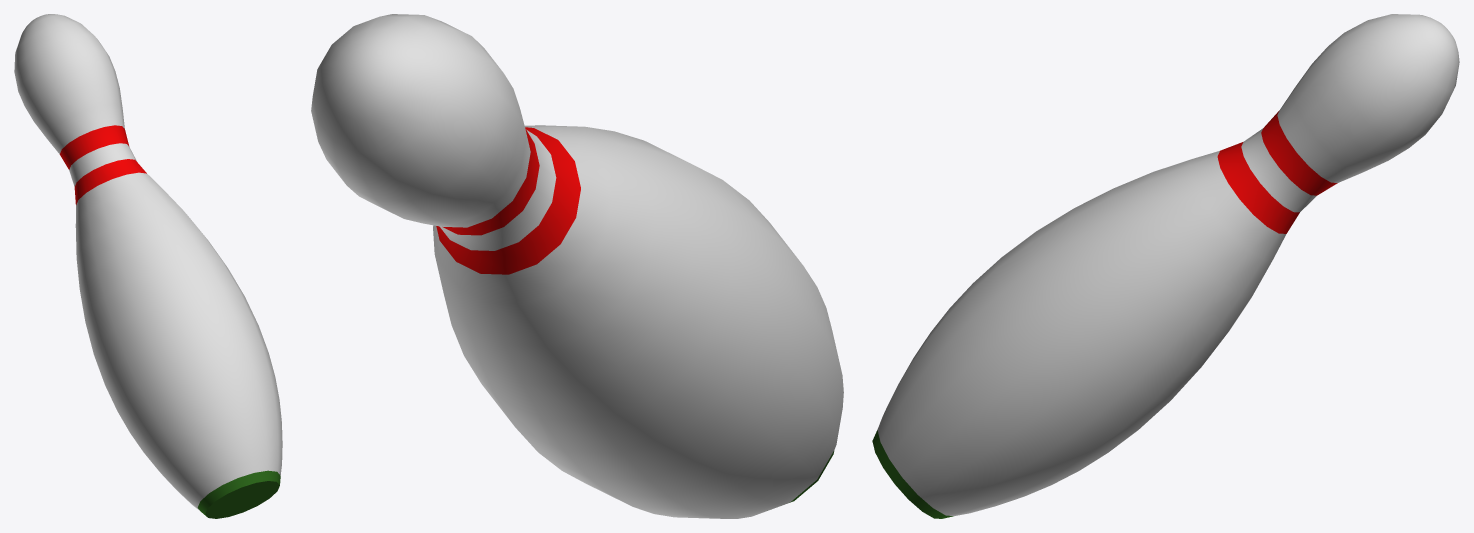
The model's file is Ping.fbx.
The picture shows the model from 3 angles, left to right: view 1: azimuth 30°, elevation 25°; view 2: azimuth 150°, elevation 25°; view 3: azimuth 270°, elevation 25°; orthographic projection. The views are drawn at different scales.
Parts seen in each view (by area): view 1: Bowling_pin006; view 2: Bowling_pin006; view 3: Bowling_pin006.
Part boxes in pixels (box(x1,y1,x2,y2)): Bowling_pin006: box(14, 14, 282, 518); Bowling_pin006: box(311, 14, 843, 518); Bowling_pin006: box(872, 14, 1459, 518).
Bounding box in the file's own units: 9.56 × 23.65 × 25.45.
